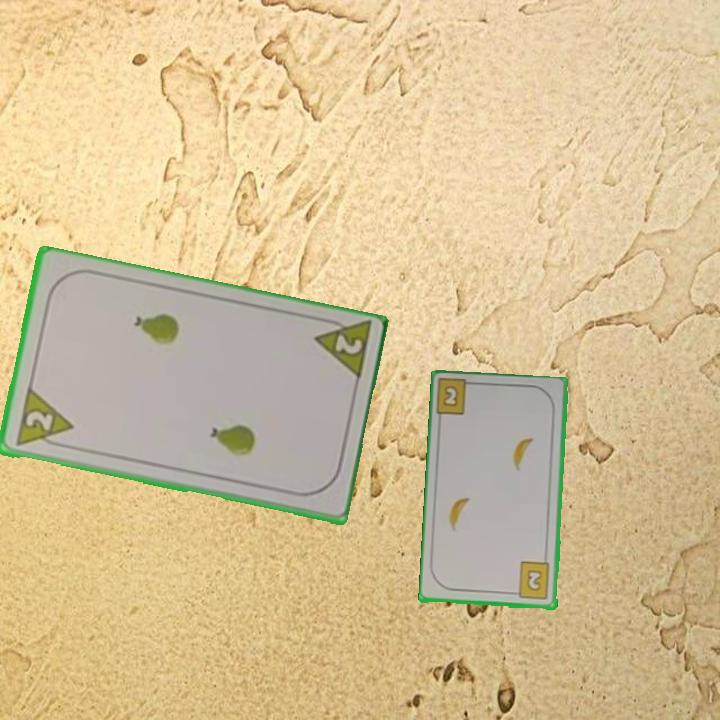2b: (509, 559, 553, 602), (439, 382, 462, 410)
2p: (309, 316, 373, 385), (11, 385, 76, 452)
